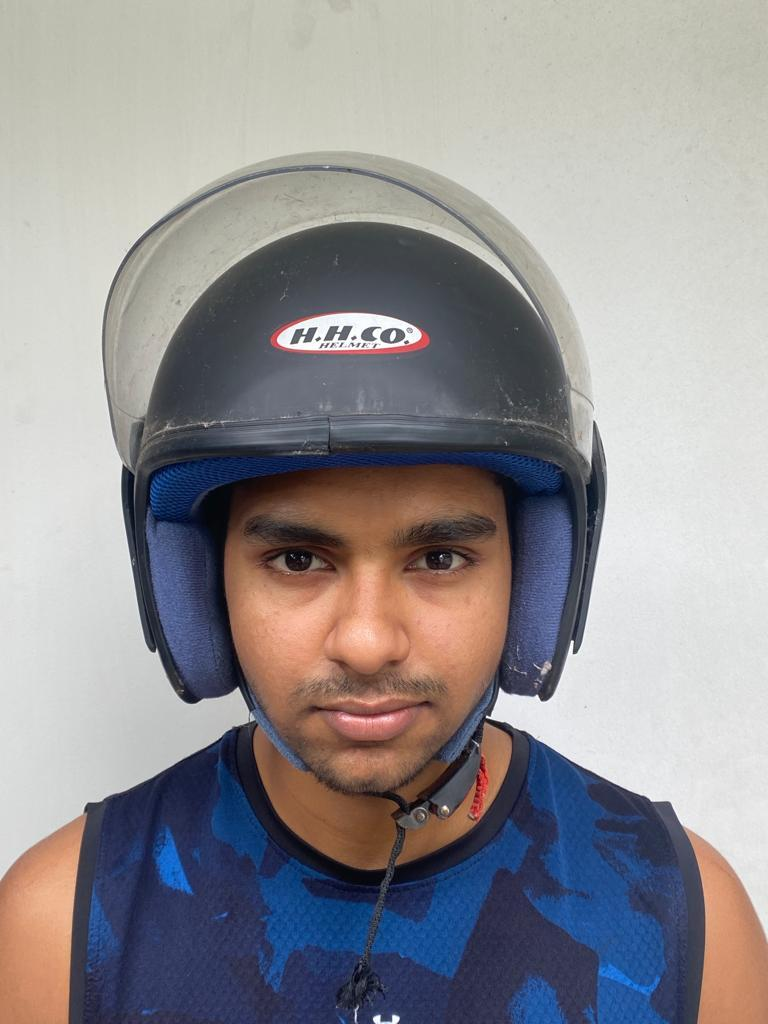helmet: (99, 148, 611, 717)
